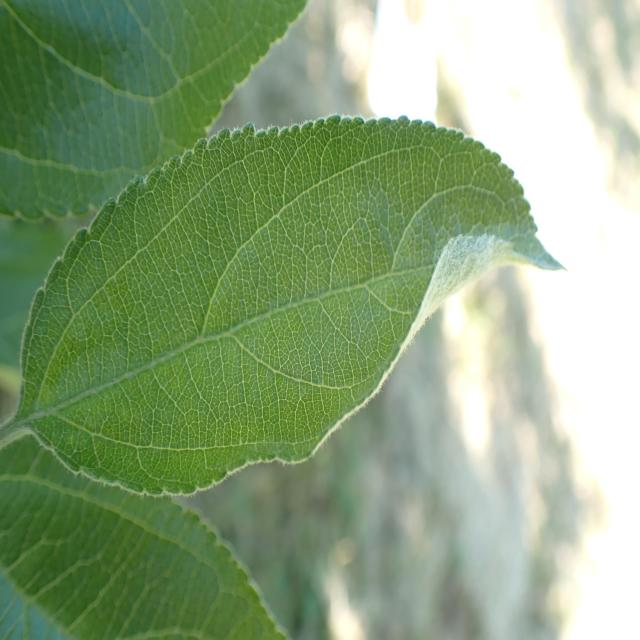healthy: (17, 112, 571, 500), (0, 0, 311, 224), (0, 430, 290, 640)
